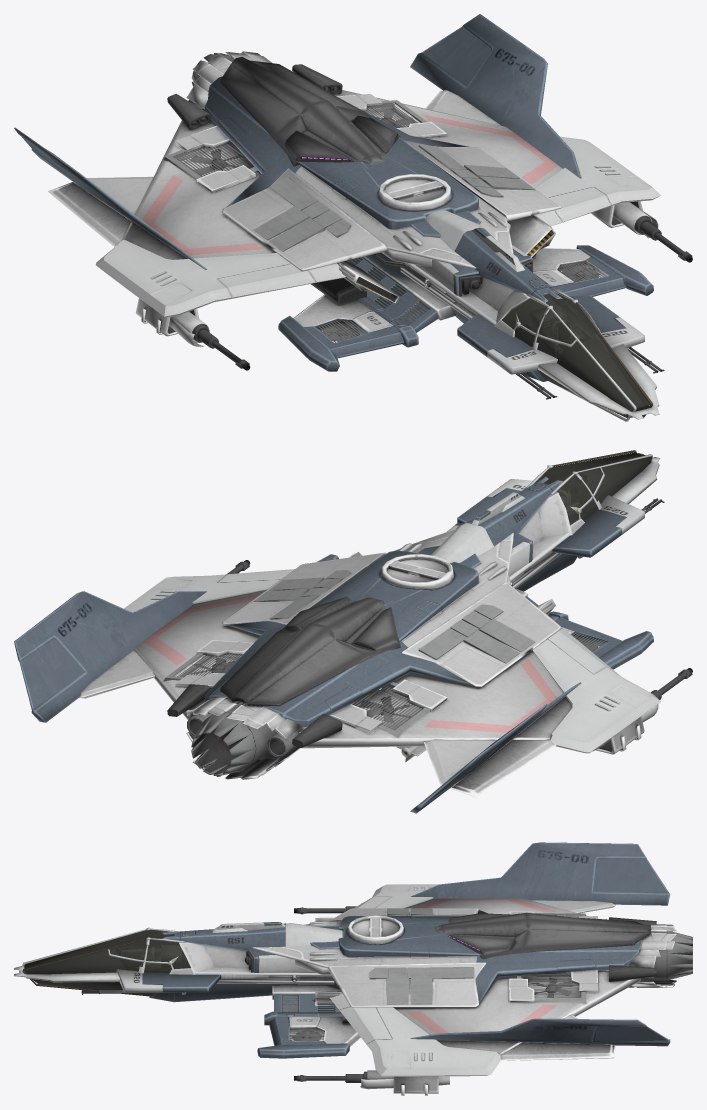
The picture shows the model from 3 angles, top to bottom: view 1: azimuth 30°, elevation 25°; view 2: azimuth 150°, elevation 25°; view 3: azimuth 270°, elevation 25°; orthographic projection. The views are drawn at different scales.
Visible parts, largest first — view 1: Northstar_L (×4); view 2: Northstar_L (×4); view 3: Northstar_L (×4).
Part boxes in pixels (x1,y1,x2,y2): Northstar_L (×4): [14, 14, 692, 421]; Northstar_L (×4): [14, 450, 692, 813]; Northstar_L (×4): [14, 842, 692, 1095].
Size of the model in its own units: 19.98 by 4.4 by 30.48.
4 materials, 4 textured.
